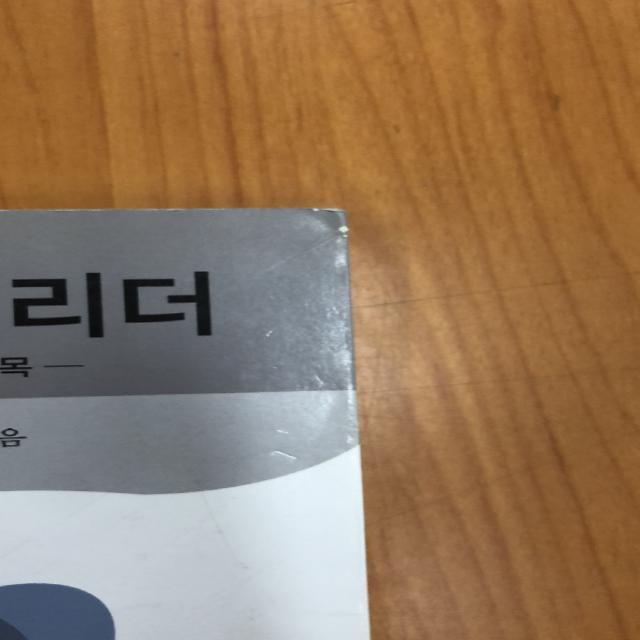Wornout: (1, 196, 241, 224), (302, 204, 353, 242)
